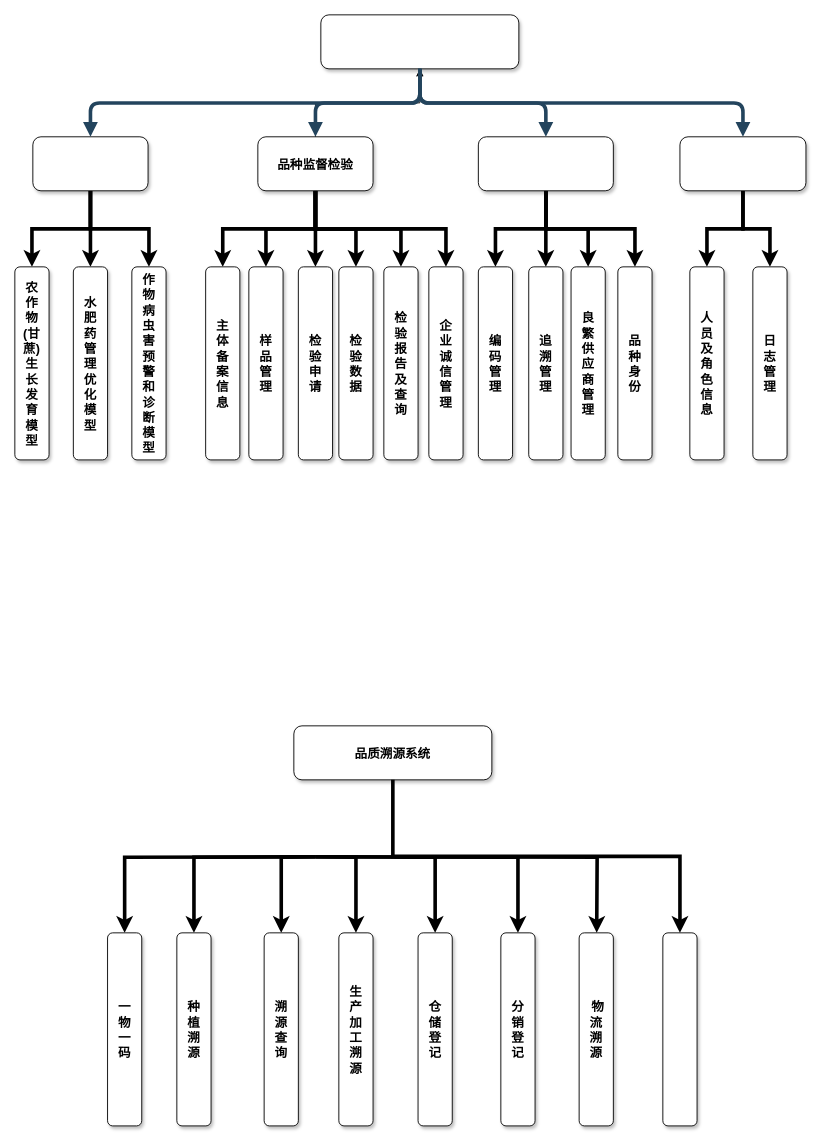
Image size: 821x1140. Some labels were removed from this diagram. Here are the shapes that lost their labels. From the top down, the centre of each, then its label:
point (420, 42): 良种繁育系统
point (90, 164): 良种繁育模型库
point (546, 164): 品种信息溯源
point (743, 164): 系统管理
point (680, 1030): 市 场 巡 检
